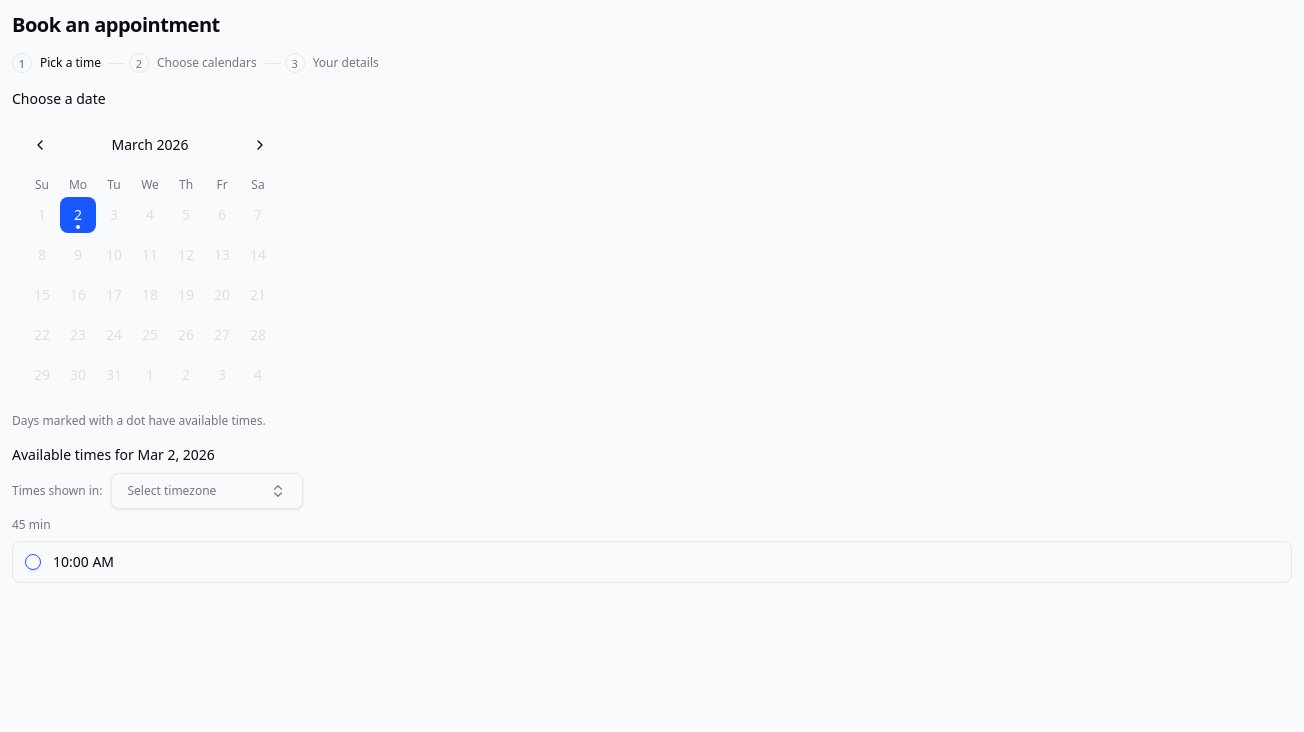
PublicAppointmentTypeBookingFlow › renders whole-appointment-type proposals and, once one is picked, renders the PROPOSAL length, never a locally requested one
The image size is (1304, 732).
Click the radio button: (33, 562) [25, 554, 41, 570]
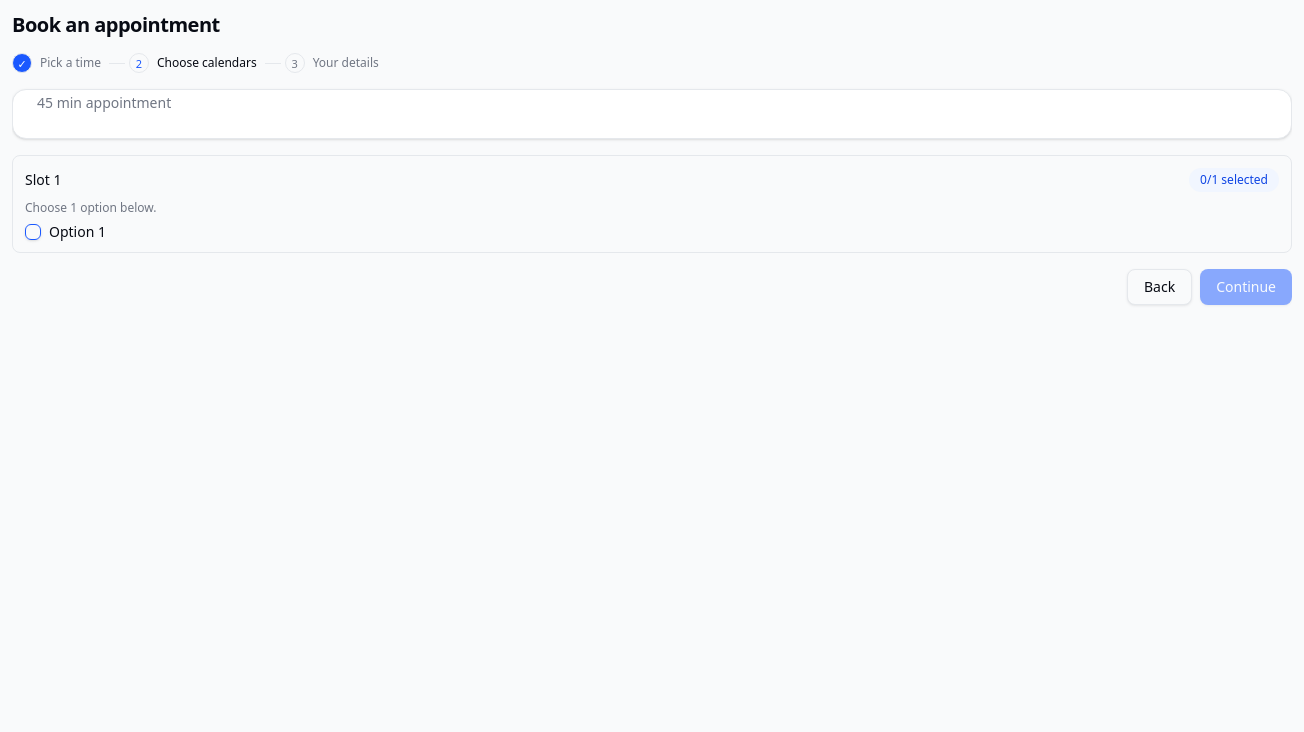
Check: the text "45 min appointment" is shown, box [37, 93, 171, 112]
